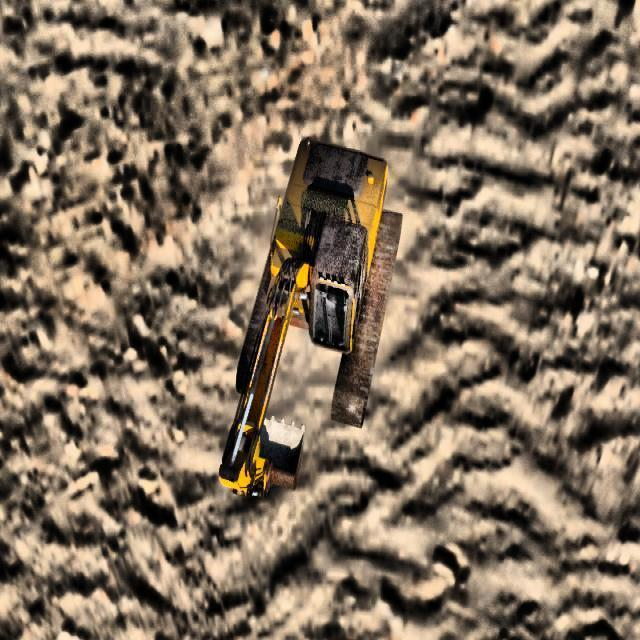excavator: (218, 136, 403, 498)
